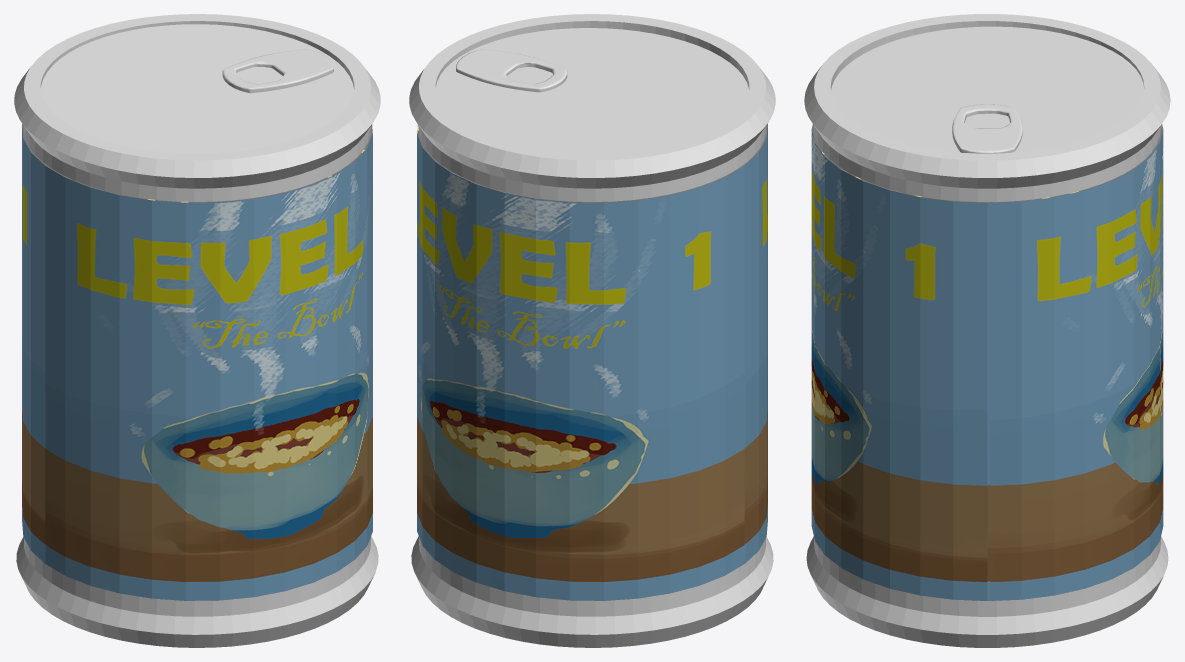
The model's file is can_level_1.gltf.
The picture shows the model from 3 angles, left to right: view 1: azimuth 30°, elevation 25°; view 2: azimuth 150°, elevation 25°; view 3: azimuth 270°, elevation 25°; orthographic projection.
Visible parts, largest first — view 1: Label Wrap, Can Body, Can Top, Open Tab; view 2: Label Wrap, Can Body, Can Top, Open Tab; view 3: Label Wrap, Can Body, Can Top, Open Tab.
Part boxes in pixels (bbox=[...]): Label Wrap: bbox=[22, 124, 372, 600]; Can Body: bbox=[14, 14, 380, 647]; Can Top: bbox=[40, 24, 354, 153]; Open Tab: bbox=[222, 49, 333, 93]; Label Wrap: bbox=[417, 124, 767, 600]; Can Body: bbox=[409, 14, 775, 647]; Can Top: bbox=[435, 28, 749, 153]; Open Tab: bbox=[456, 49, 567, 92]; Label Wrap: bbox=[811, 124, 1163, 600]; Can Body: bbox=[804, 14, 1170, 647]; Can Top: bbox=[831, 26, 1143, 152]; Open Tab: bbox=[952, 104, 1022, 153].
Size of the model in its own units: 4.17 by 6.12 by 4.17.
2 materials, 1 textured.
